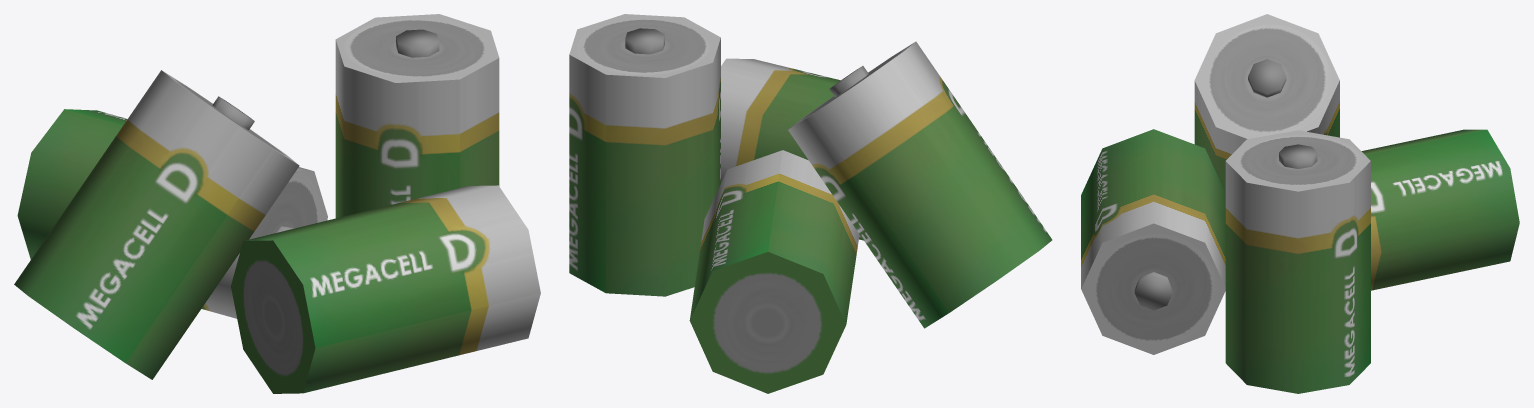
The model's file is Batteries.obj.
The picture shows the model from 3 angles, left to right: view 1: azimuth 30°, elevation 25°; view 2: azimuth 150°, elevation 25°; view 3: azimuth 270°, elevation 25°; orthographic projection. The views are drawn at different scales.
Visible parts, largest first — view 1: Cylinder; view 2: Cylinder; view 3: Cylinder.
Boxes of the visible parts, x1,y1,x2,y2 form: Cylinder: (14, 14, 540, 393); Cylinder: (569, 14, 1052, 393); Cylinder: (1081, 14, 1519, 393).
Size of the model in its own units: 0.3281 by 0.1825 by 0.302.
